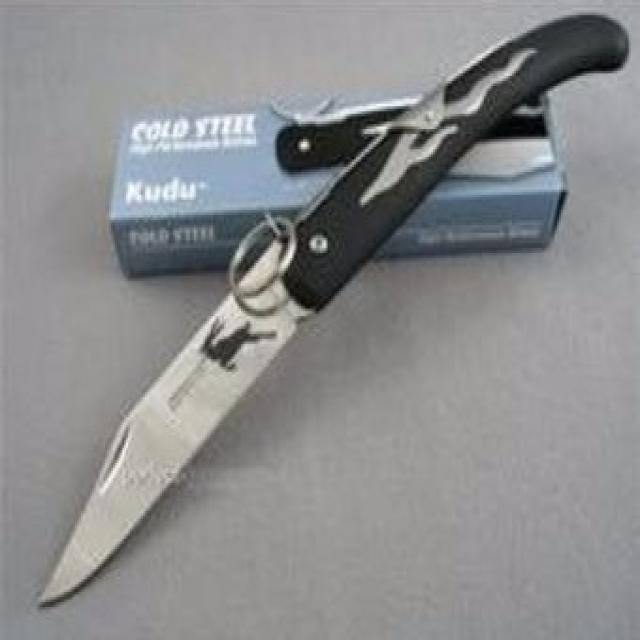knife: (31, 9, 640, 620)
